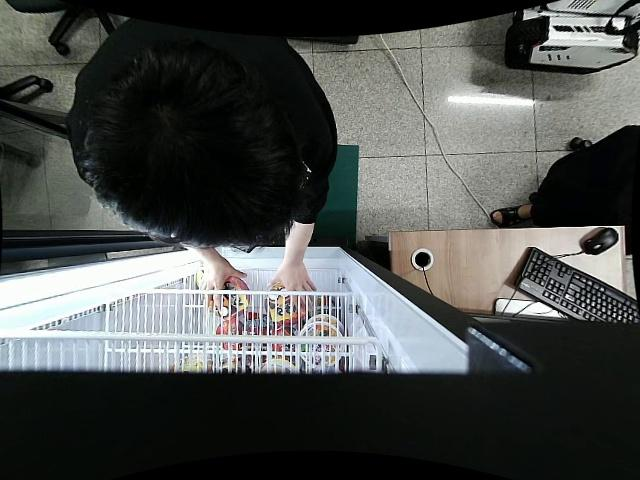00_hand: (265, 259, 317, 315), (199, 261, 247, 311)
05_nuguri_L: (210, 276, 251, 319), (265, 287, 308, 323)
